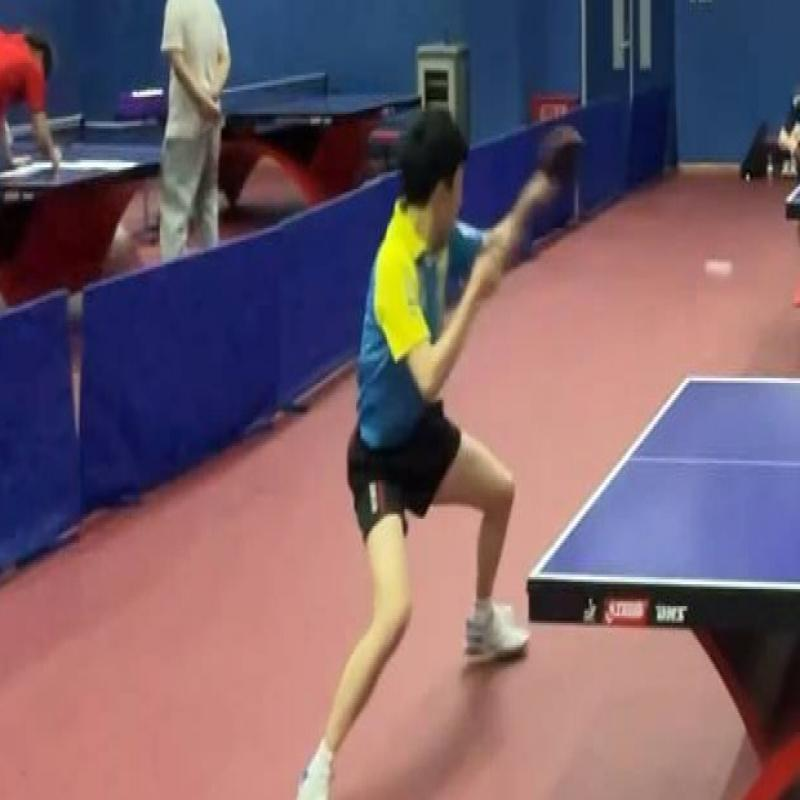bats: (530, 114, 598, 204)
